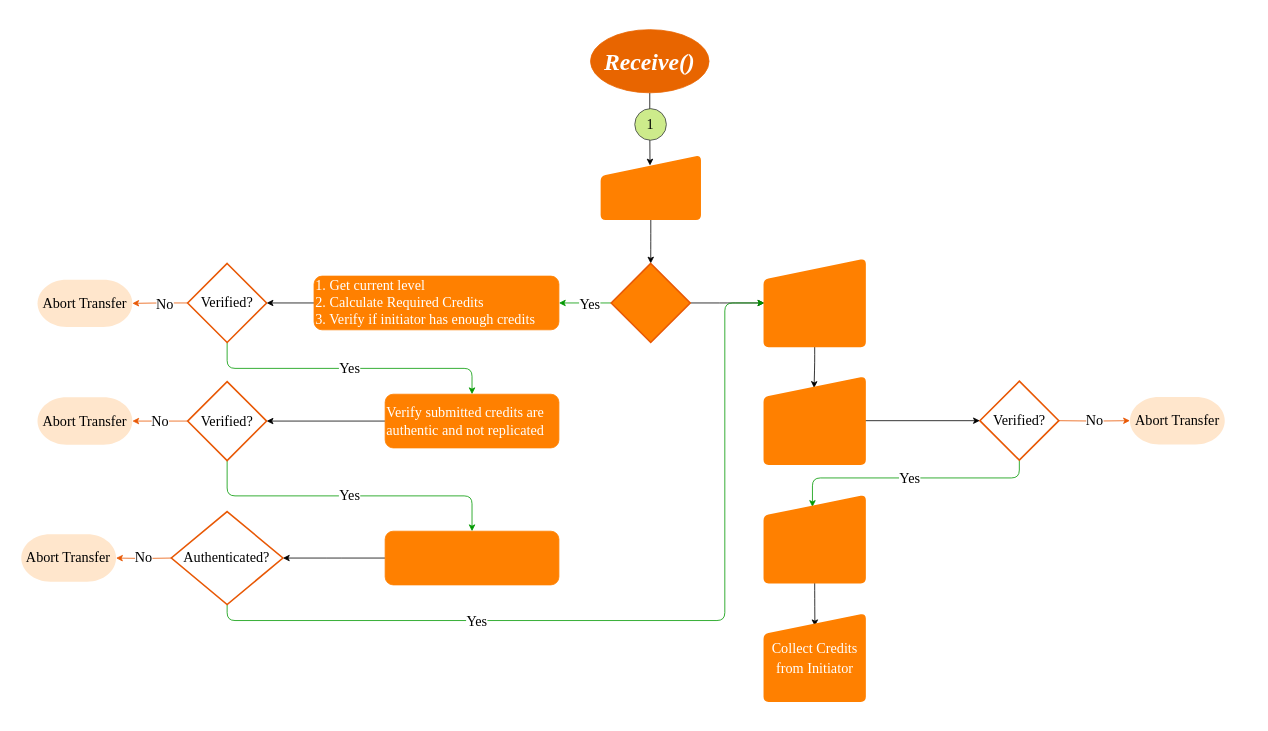
The diagram is 1268 pixels wide and 731 high, and some of its shapes have lost their labels. The centre of each missing label's shape, as x and y in pixels:
Authenticate all invloved signatures: the point at 471,557
Initialization: the point at 650,187
Mining?: the point at 650,302
Put sign on the payload: the point at 814,539
Sync the network: the point at 814,302
Verify Initiator's Sign on Payload: the point at 814,420
